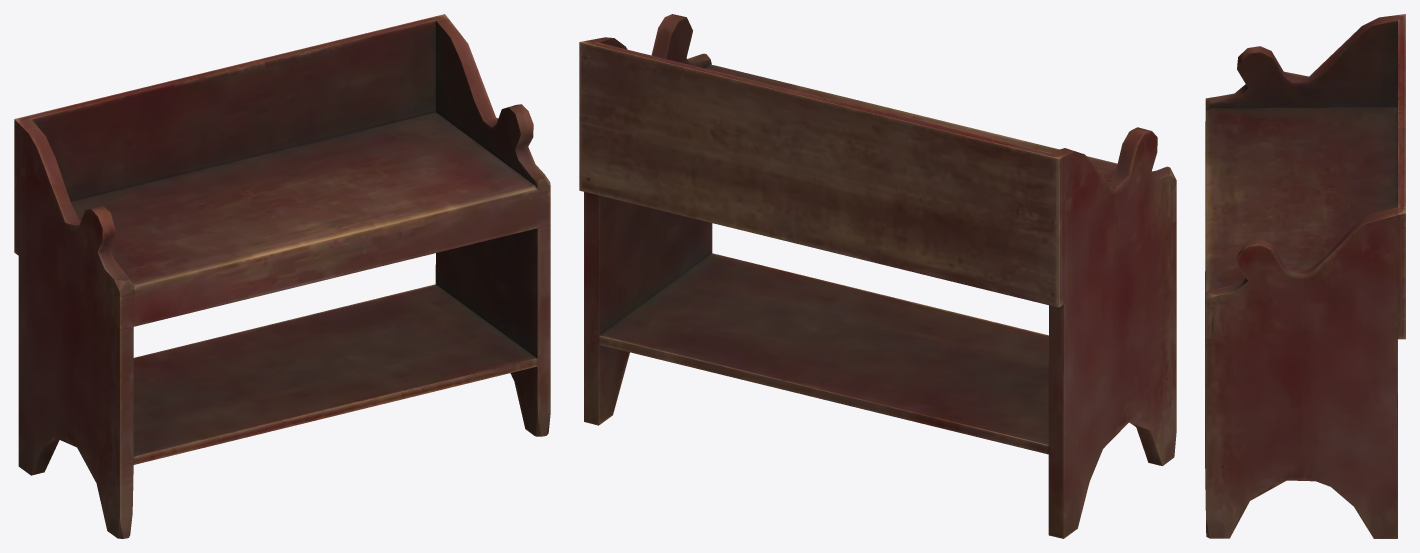
Rendered from painted_wooden_bench.glb.
3 renders of one model, left to right at view 1: azimuth 30°, elevation 25°; view 2: azimuth 150°, elevation 25°; view 3: azimuth 270°, elevation 25°, orthographic. The views are drawn at different scales.
Parts seen in each view (by area): view 1: painted_wooden_bench; view 2: painted_wooden_bench; view 3: painted_wooden_bench.
Part boxes in pixels (<box>): painted_wooden_bench: <box>14,14,550,538</box>; painted_wooden_bench: <box>579,14,1176,538</box>; painted_wooden_bench: <box>1205,14,1405,538</box>.
Bounding box in the file's own units: 1.16 × 0.8893 × 0.4965.
Materials: 1 (1 with a texture image).
